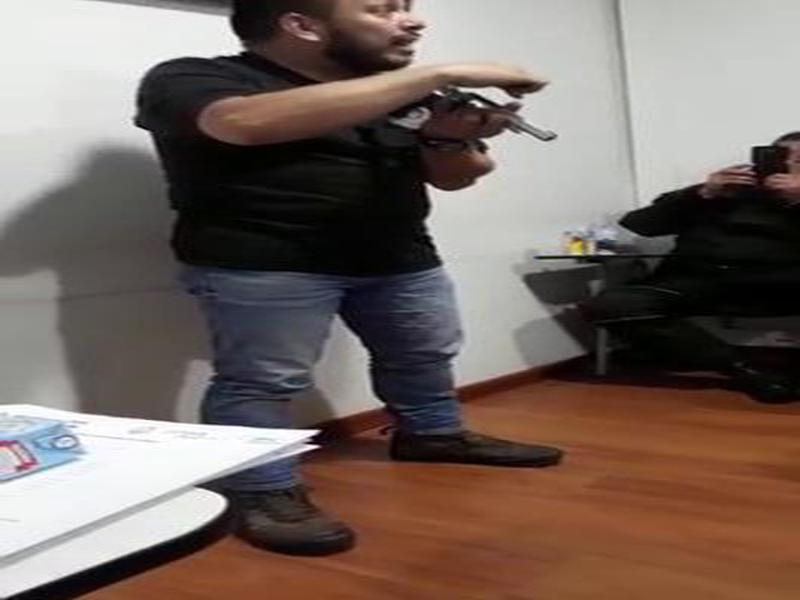Revolver: (416, 61, 568, 177)
